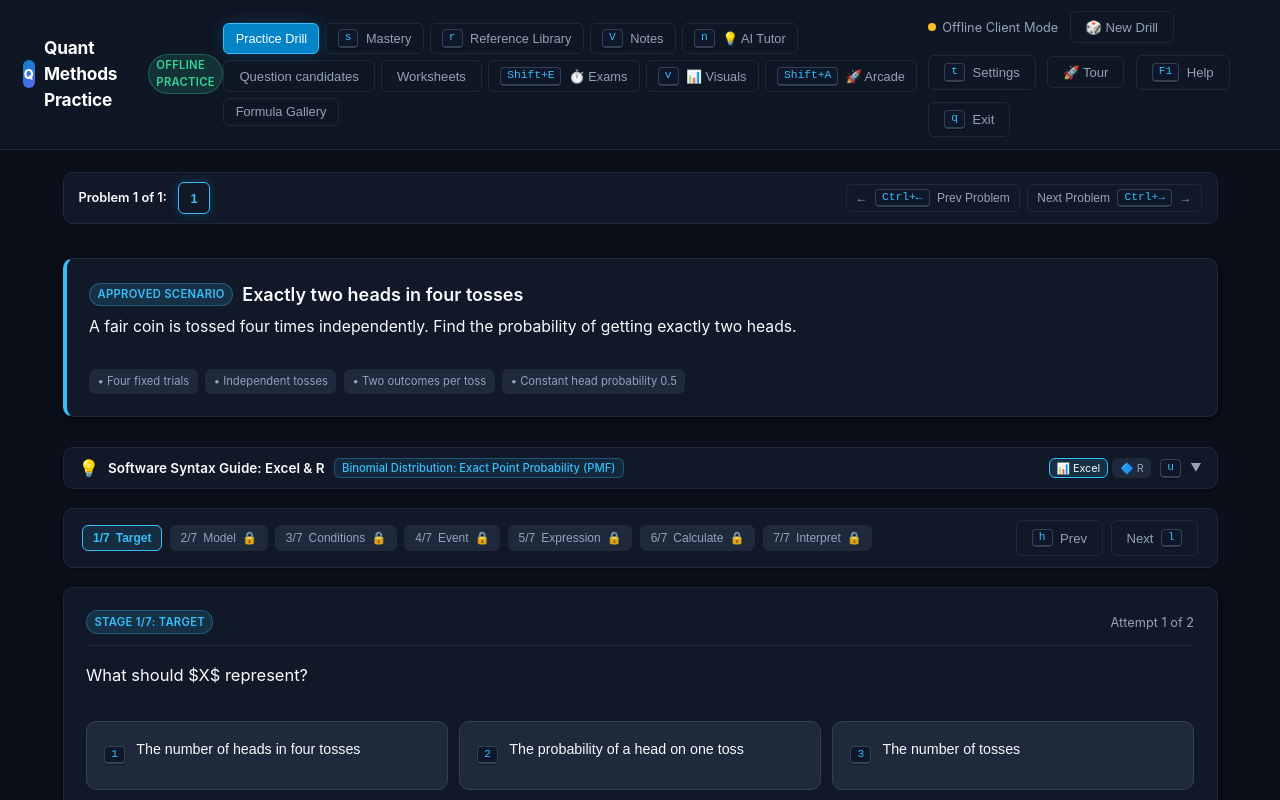
App Shell › allows toggling between Practice Drill and Reference Library
This screenshot has width=1280, height=800.
Click the button "r Reference Library" at [507, 39], box 430,23 -> 584,54
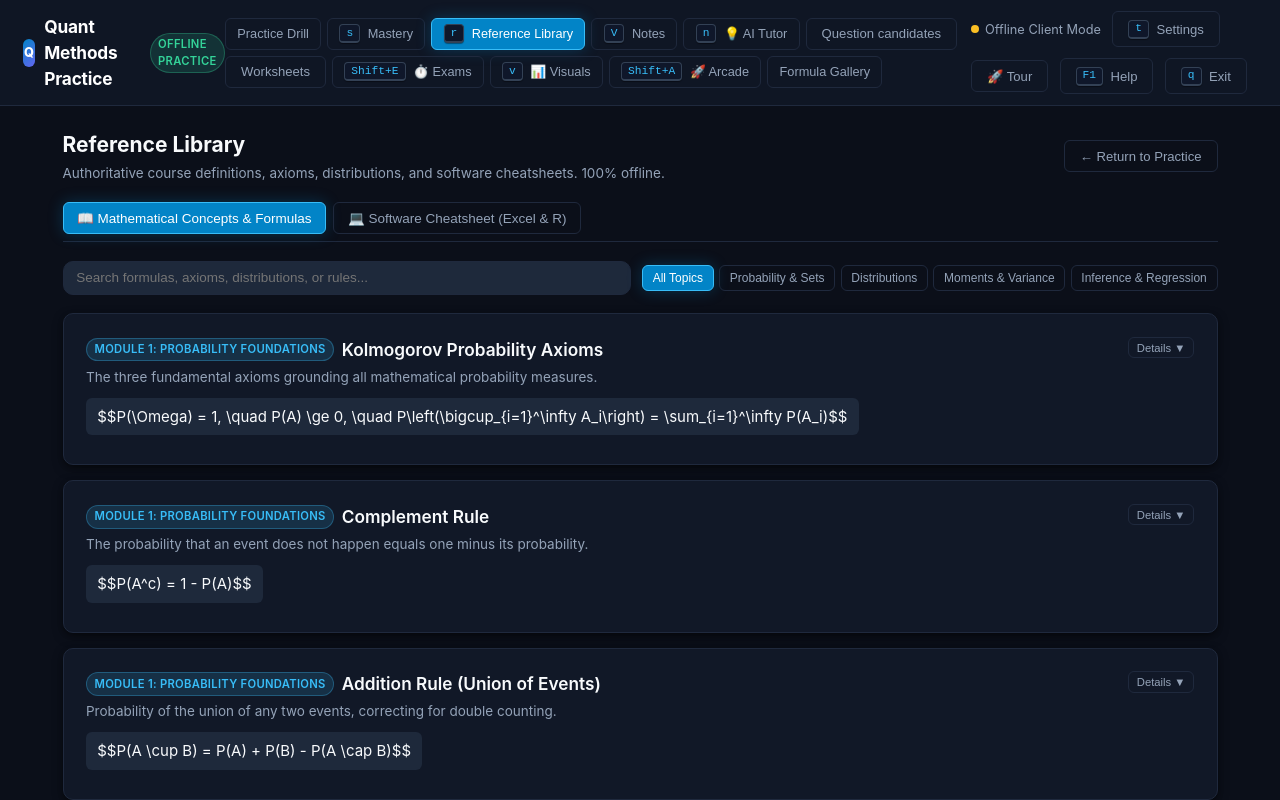
expect the heading "Reference Library" is shown: met, box 62,132 -> 245,157
expect the text "Authoritative course definitions" is shown: met, box 62,165 -> 665,181
Click the button "Practice Drill" at [273, 34], box 225,18 -> 321,50
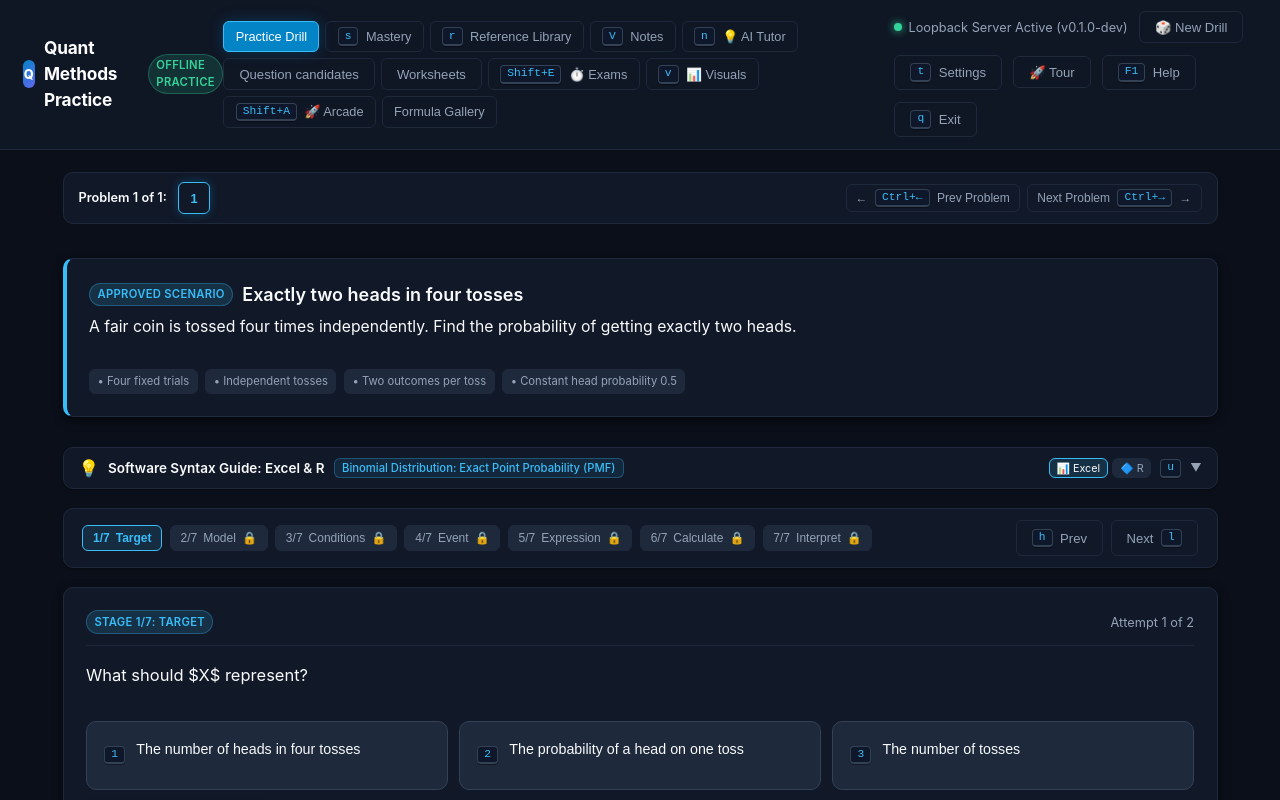
expect the text "Stage 1/7: Target" is shown: met, box 86,610 -> 214,634
